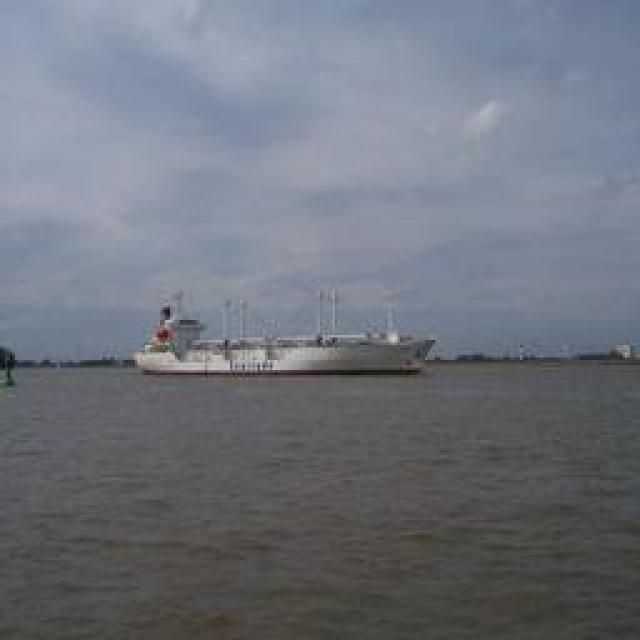ship2: (134, 287, 436, 376)
